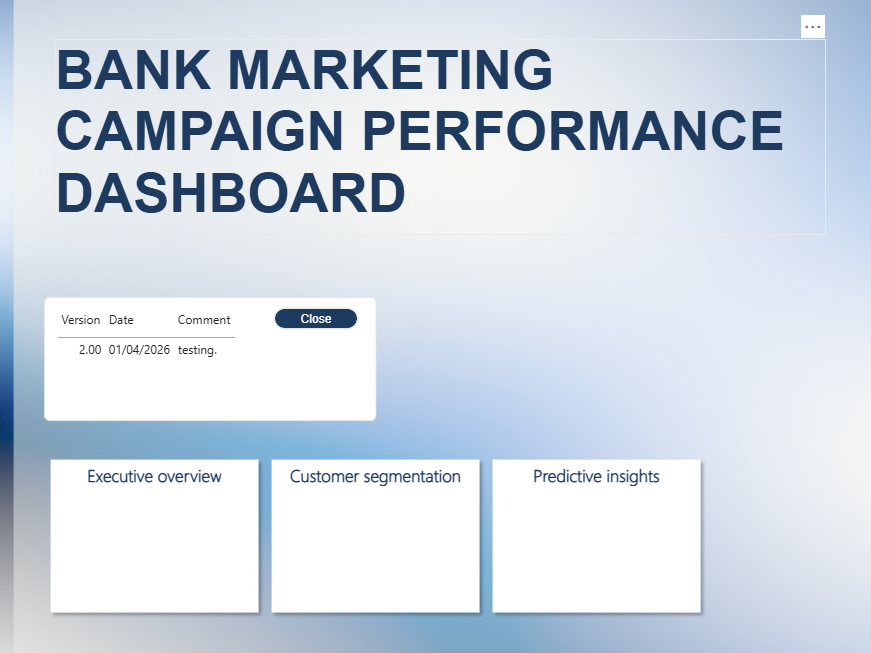

What the dashboard file says about the page in this screenshot:
{"tool":"powerbi","page":{"name":"Landing page","canvas":[1920,1080],"ordinal":0},"visuals":[{"type":"textbox","box":[85.1,175.6,1025.5,260.7],"z":0},{"type":"shape","box":[85.1,518.7,264.7,57.2],"z":1},{"type":"shape","box":[70.5,726.2,293.9,220.8],"z":2},{"type":"shape","box":[364.4,726.2,293.9,220.8],"z":3},{"type":"shape","box":[658.4,726.2,293.9,220.8],"z":4},{"type":"textbox","box":[1584.1,1022.8,284.6,25.3],"z":5},{"type":"cardVisual","fields":{"Data":["Min(DimDateTime.Date)"]},"box":[1691.3,1013.9,110.7,42.8],"z":8},{"type":"cardVisual","fields":{"Data":["Max(DimDateTime.Time)"]},"box":[1770.9,1013.9,110.7,42.8],"z":9}]}

Visuals, with their boxes on the page's 1920x1080 design canvas (x1, y1, x2, y2). These are canvas units, not pixel positions in the 871x653 screenshot, which may show the page scaled, cropped or inside an application window:
textbox: box(85, 176, 1111, 436)
shape: box(85, 519, 350, 576)
shape: box(70, 726, 364, 947)
shape: box(364, 726, 658, 947)
shape: box(658, 726, 952, 947)
textbox: box(1584, 1023, 1869, 1048)
cardVisual - Min(DimDateTime.Date): box(1691, 1014, 1802, 1057)
cardVisual - Max(DimDateTime.Time): box(1771, 1014, 1882, 1057)
